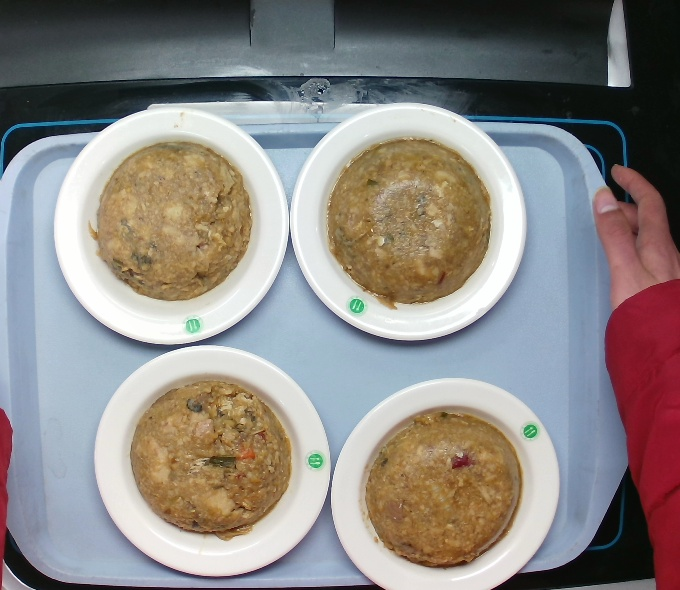wcq-YuDong: (318, 128, 498, 316), (356, 407, 533, 576), (85, 135, 254, 309), (130, 369, 295, 544)
